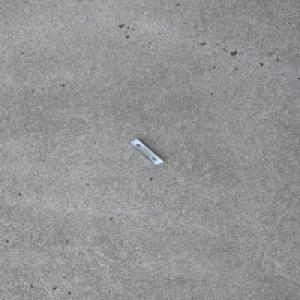ClampPart: (126, 138, 165, 166)
